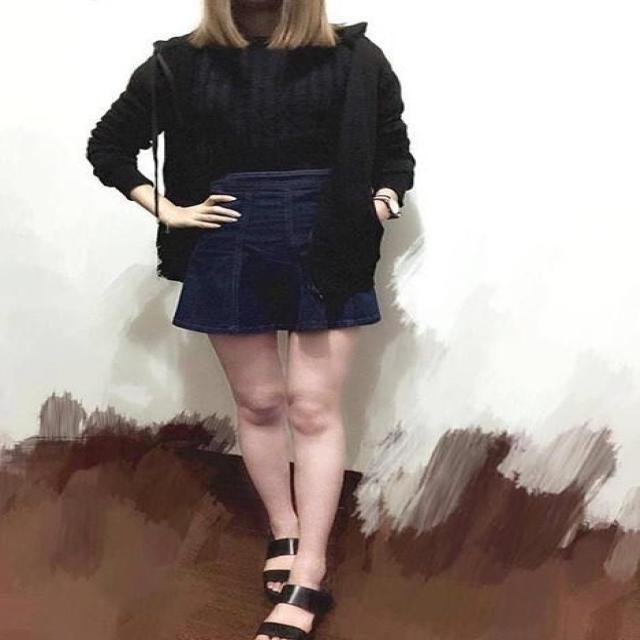long sleeve outwear: (299, 22, 417, 327)
skirt: (174, 164, 381, 335)
